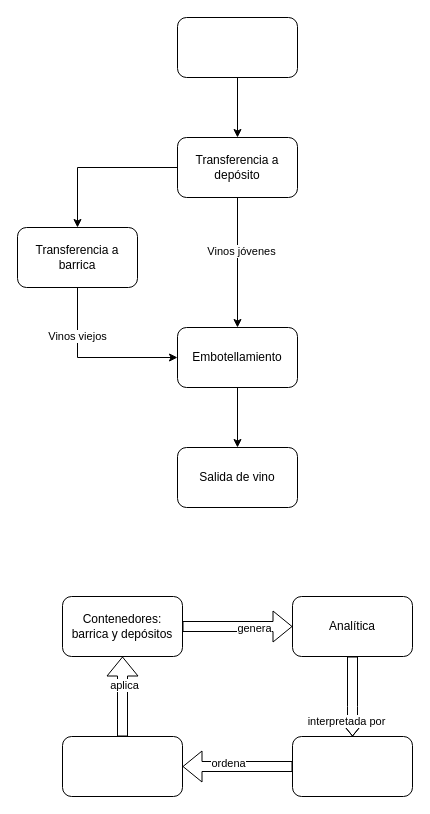
Some shapes in this 430 by 814 pixel diagram are drawn without their labels. Here are the shapes that lost their labels. From the top down, the box of each, then its label:
(176, 16, 298, 78): Entrada de Uva
(62, 736, 182, 796): Operación correctiva
(292, 736, 412, 796): Enólogo
